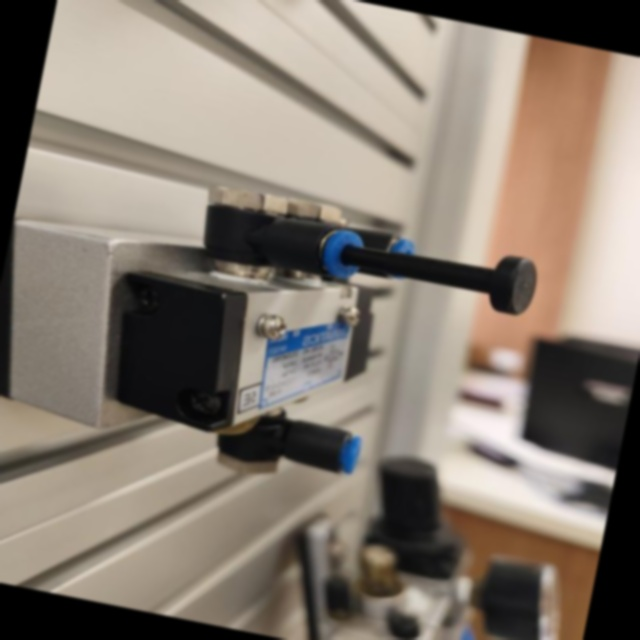5by2 DCV: (0, 128, 558, 534)
